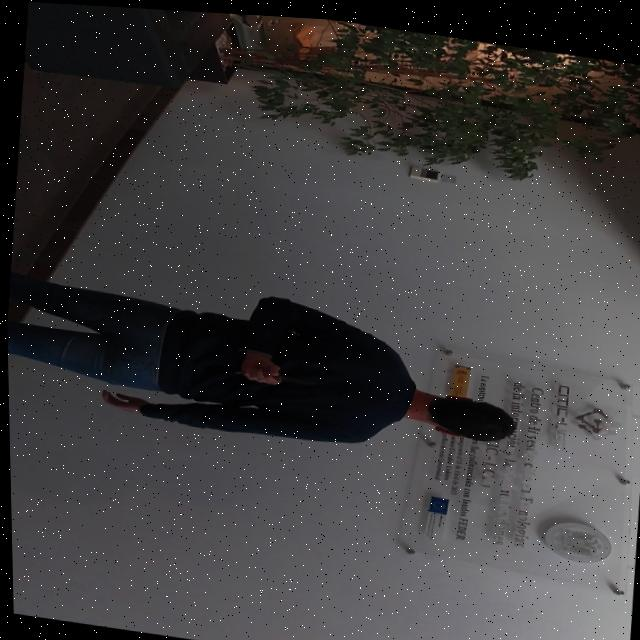knife: (272, 369, 319, 384)
